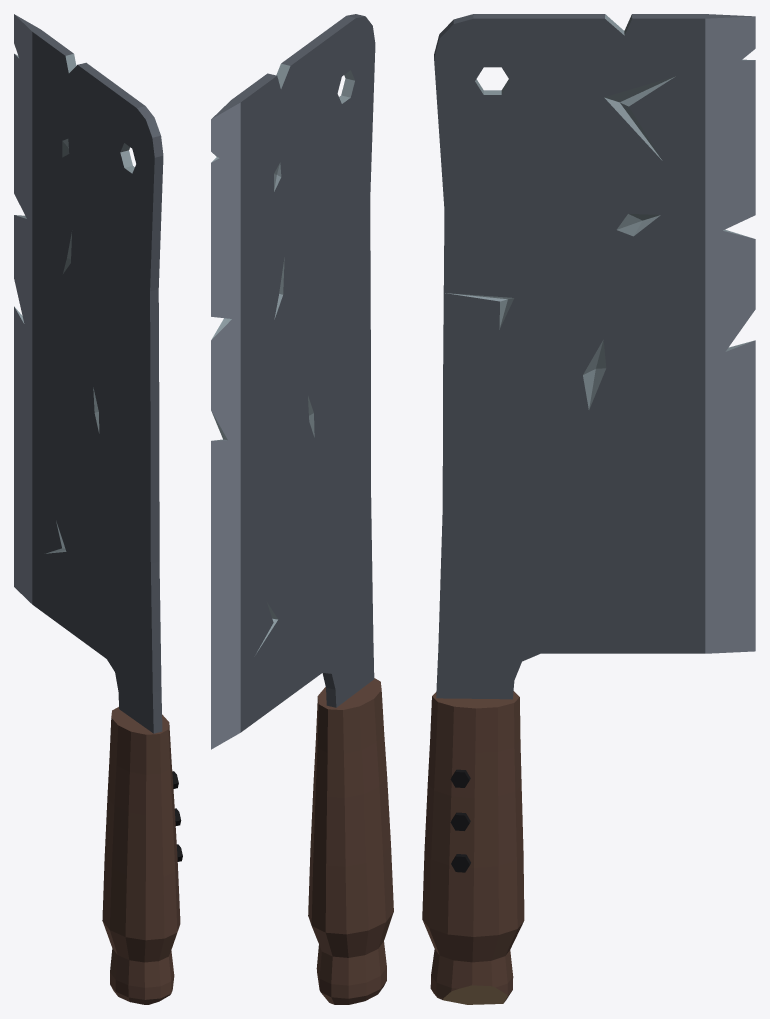
Rendered from cleaver.glb.
3 views of the same model, side by side, from view 1: azimuth 30°, elevation 25°; view 2: azimuth 150°, elevation 25°; view 3: azimuth 270°, elevation 25° (orthographic). The views are drawn at different scales.
Parts seen in each view (by area): view 1: SM_Butcher_Cleaver; view 2: SM_Butcher_Cleaver; view 3: SM_Butcher_Cleaver.
Boxes of the visible parts, <box> form: SM_Butcher_Cleaver: <box>14,14,182,1004</box>; SM_Butcher_Cleaver: <box>211,14,393,1004</box>; SM_Butcher_Cleaver: <box>422,14,755,1004</box>.
Bounding box in the file's own units: 0.0375 × 0.4829 × 0.1483.
Materials: 1 (1 with a texture image).
